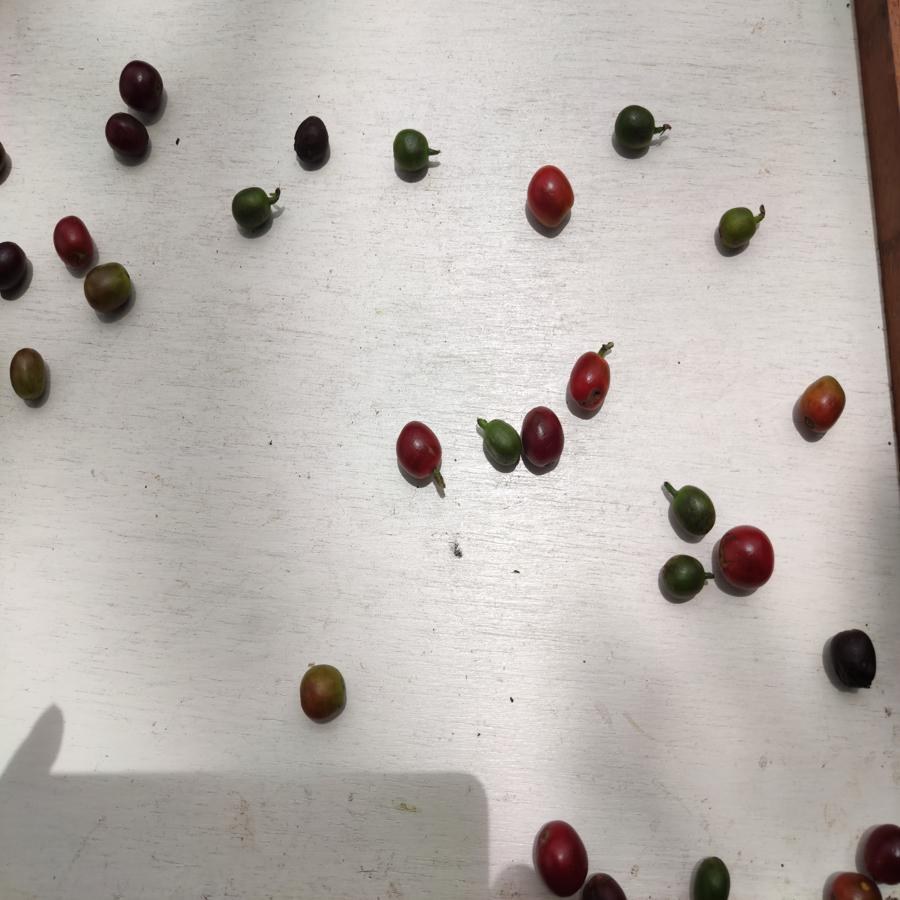Inmaduro: (716, 204, 760, 257), (671, 485, 716, 536), (613, 104, 656, 154), (391, 127, 434, 176), (661, 553, 706, 599), (229, 188, 277, 231), (483, 418, 520, 471), (690, 856, 733, 900)
Maduro: (533, 817, 589, 898), (716, 525, 776, 589), (524, 164, 574, 232), (565, 351, 613, 411)
Pinton: (298, 660, 350, 724), (796, 376, 849, 434), (80, 263, 135, 318), (7, 345, 55, 407)
Sobremaduro: (393, 423, 445, 485), (828, 629, 878, 693), (856, 823, 900, 895), (117, 56, 167, 113), (525, 404, 564, 472), (105, 111, 151, 164), (49, 216, 97, 263), (291, 116, 333, 166), (1, 237, 25, 297)
